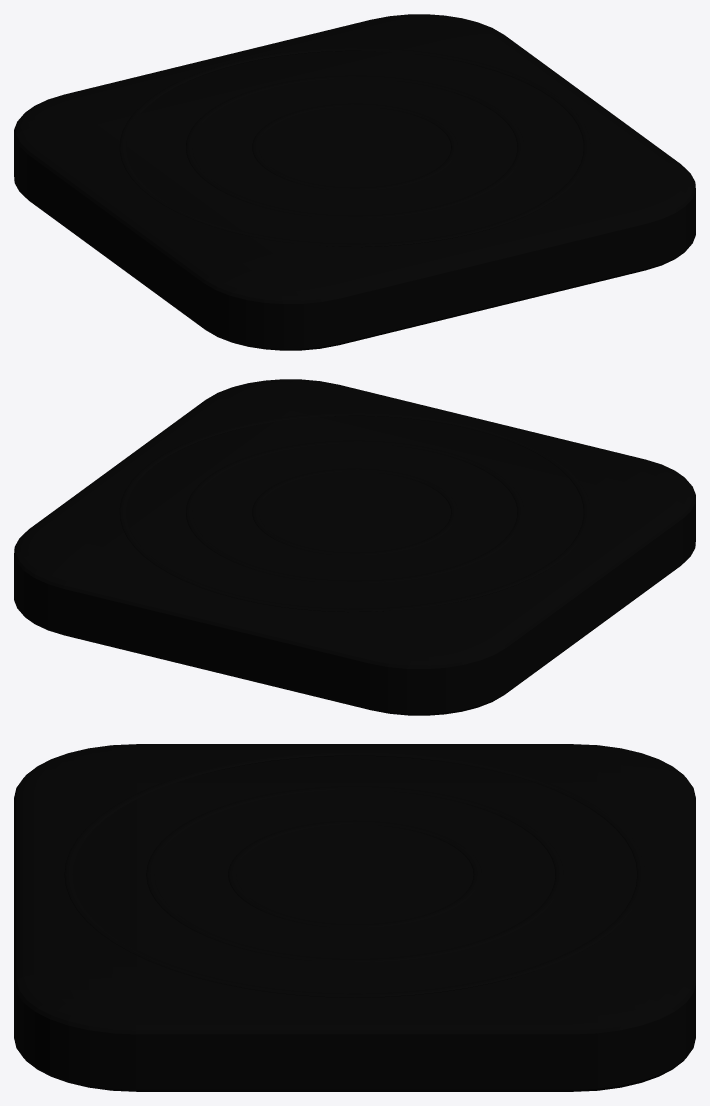
The model's file is thali.glb.
The picture shows the model from 3 angles, top to bottom: view 1: azimuth 30°, elevation 25°; view 2: azimuth 150°, elevation 25°; view 3: azimuth 270°, elevation 25°; orthographic projection. The views are drawn at different scales.
Visible parts, largest first — view 1: thali; view 2: thali; view 3: thali.
Boxes of the visible parts, x1,y1,x2,y2 form: thali: [14, 14, 695, 350]; thali: [14, 379, 695, 715]; thali: [14, 744, 695, 1091].
Bounding box in the file's own units: 1 × 0.1418 × 1.
Materials: 1 (1 with a texture image).
